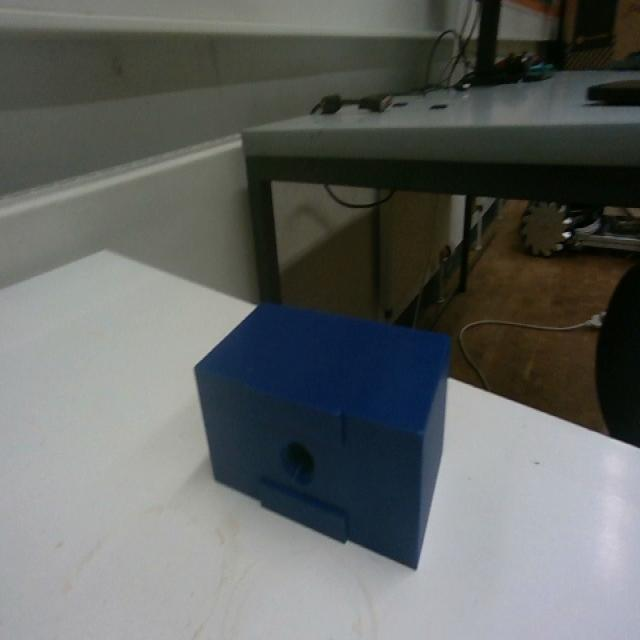Blue Cuboid: (191, 294, 454, 570)
